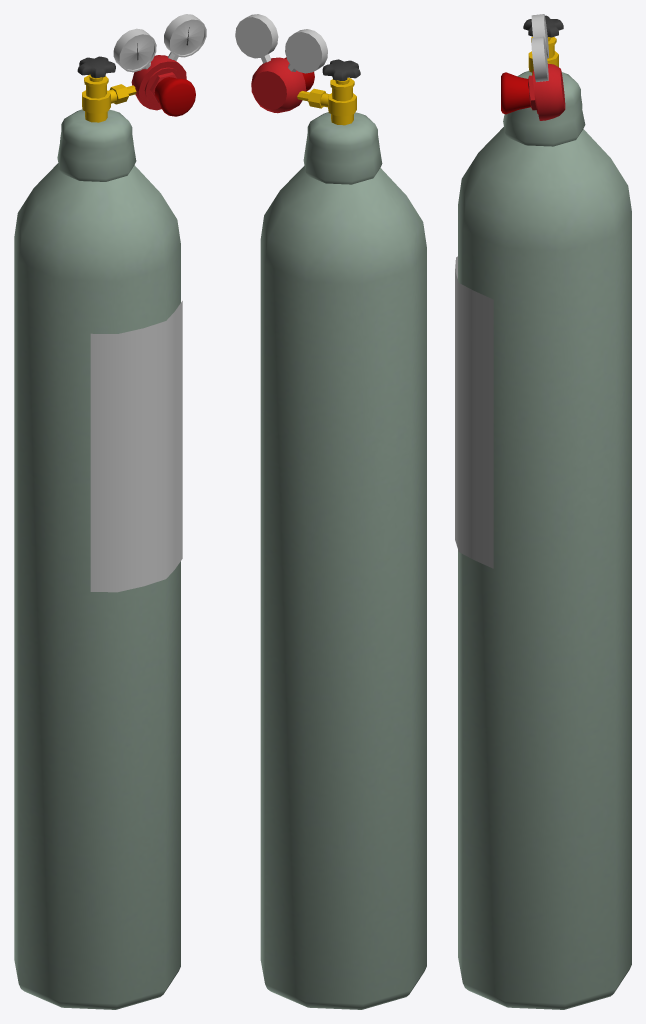
Rendered from SM_氦气瓶.FBX.
3 renders of one model, left to right at view 1: azimuth 30°, elevation 25°; view 2: azimuth 150°, elevation 25°; view 3: azimuth 270°, elevation 25°, orthographic. The views are drawn at different scales.
Parts seen in each view (by area): view 1: SM_氦气瓶_瓶体, SM_氢气瓶_减压阀, SM_氦气瓶_开关; view 2: SM_氦气瓶_瓶体, SM_氦气瓶_开关; view 3: SM_氦气瓶_瓶体, SM_氢气瓶_减压阀.
Boxes of the visible parts, bbox=[...] form: SM_氦气瓶_瓶体: bbox=[14, 14, 206, 1009]; SM_氢气瓶_减压阀: bbox=[154, 77, 195, 116]; SM_氦气瓶_开关: bbox=[77, 56, 115, 78]; SM_氦气瓶_瓶体: bbox=[235, 14, 426, 1009]; SM_氦气瓶_开关: bbox=[322, 59, 360, 80]; SM_氦气瓶_瓶体: bbox=[455, 14, 631, 1009]; SM_氢气瓶_减压阀: bbox=[501, 72, 530, 114].
Size of the model in its own units: 0.282 by 1.42 by 0.2311.
